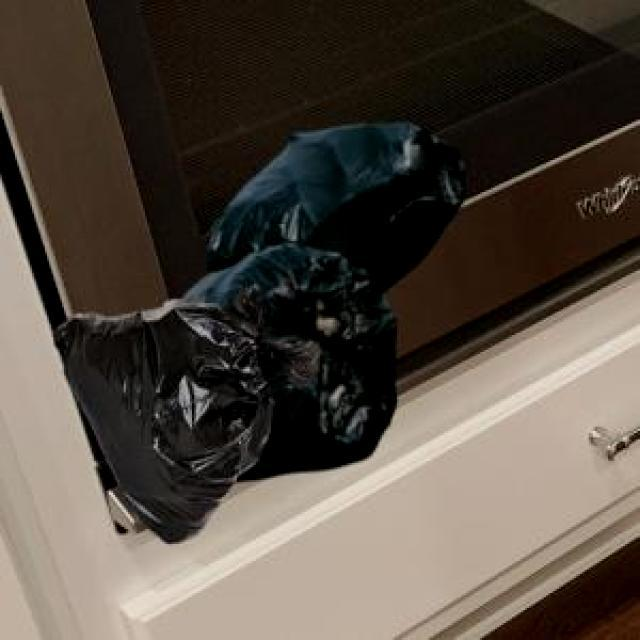Trashbag: (46, 299, 267, 560), (236, 244, 416, 488), (226, 124, 452, 258)
